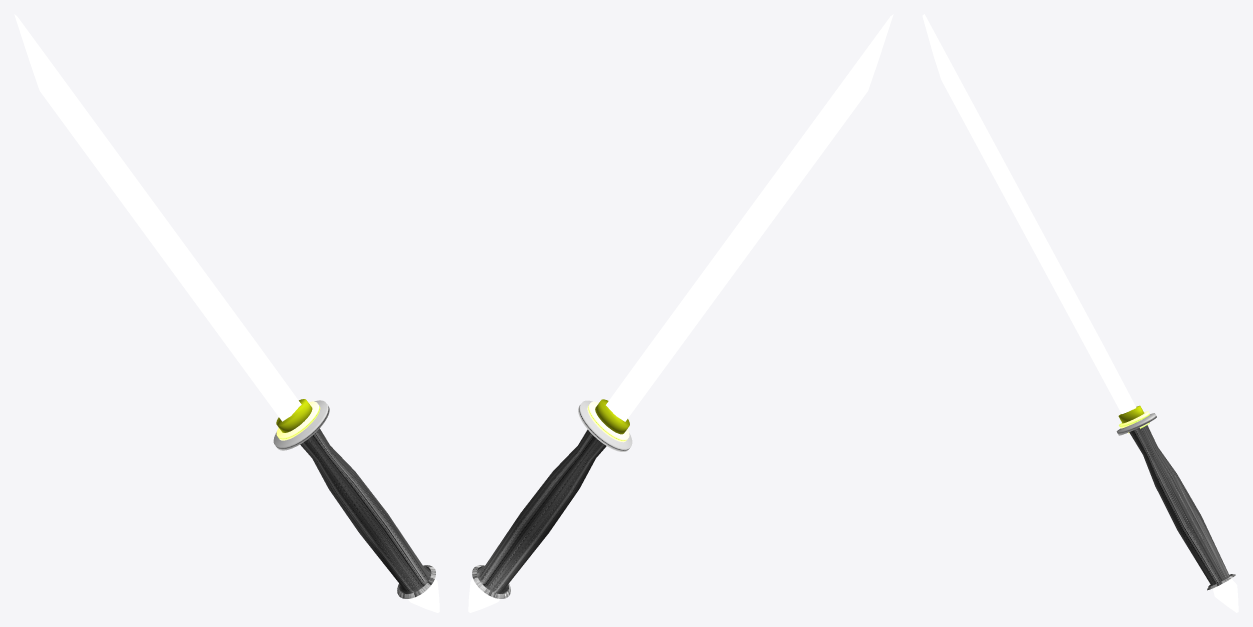
Rendered from Purplekatana.glb.
3 views of the same model, side by side, from view 1: azimuth 30°, elevation 25°; view 2: azimuth 150°, elevation 25°; view 3: azimuth 330°, elevation 25° (orthographic). The views are drawn at different scales.
Parts seen in each view (by area): view 1: Cube.003, Cylinder.013, Cube.002, Cylinder.010; view 2: Cube.003, Cylinder.013, Cube.002, Cylinder.010, Cylinder.009; view 3: Cube.003, Cylinder.013, Cube.002, Cylinder.011.
Part boxes in pixels (x1,y1,x2,y2): Cube.003: (14,14,301,415); Cylinder.013: (300,428,435,598); Cube.002: (29,61,290,421); Cylinder.010: (273,400,329,450); Cube.003: (606,14,893,415); Cylinder.013: (472,429,606,598); Cube.002: (616,61,877,421); Cylinder.010: (578,400,632,451); Cylinder.009: (595,399,629,434); Cube.003: (922,14,1141,420); Cylinder.013: (1129,425,1235,590); Cube.002: (934,57,1125,413); Cylinder.011: (1212,578,1238,605).
Size of the model in its own units: 3.77 by 5.96 by 0.3348.
8 materials, 1 textured.
